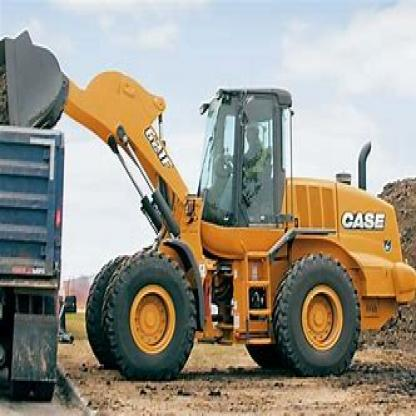bull_dozer/loader/grader: (10, 22, 415, 400)
